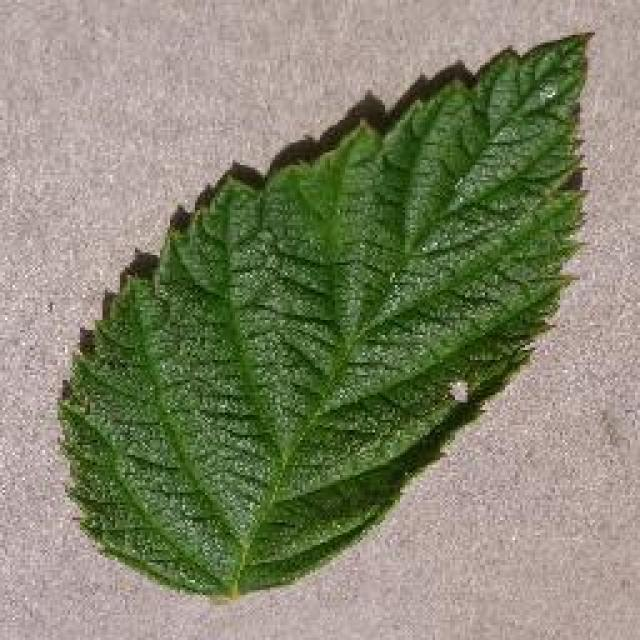Ras_healthy: (100, 107, 550, 531)
